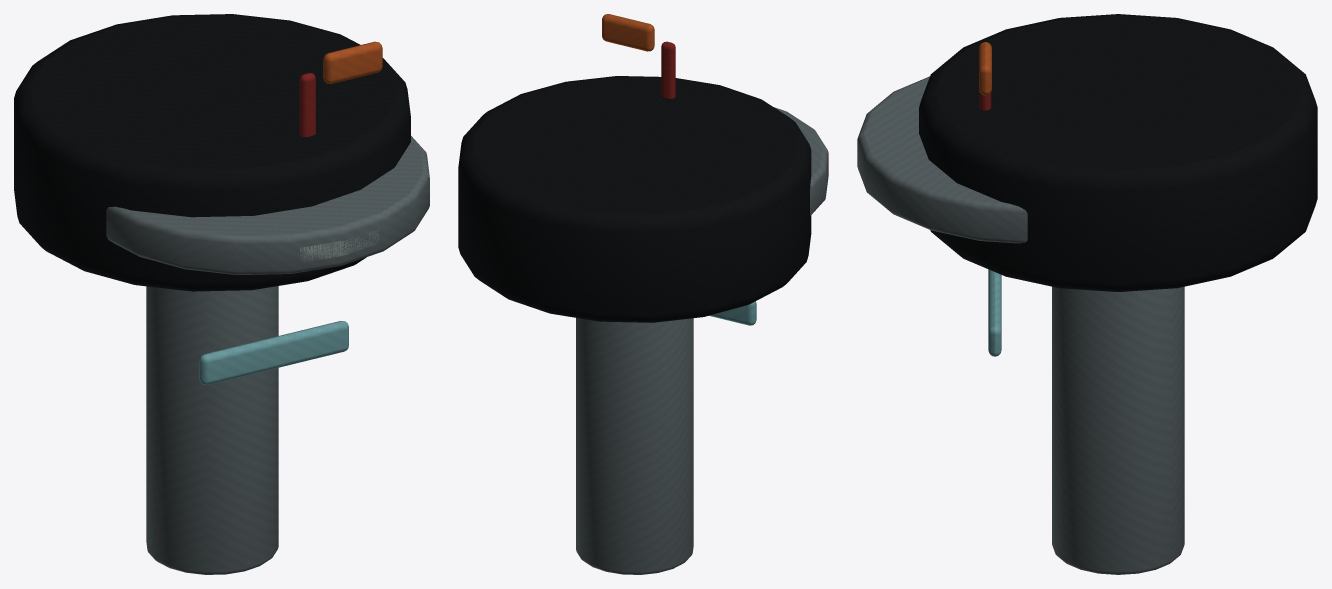
Rendered from PressureGauge.fbx.
3 views of the same model, side by side, from view 1: azimuth 30°, elevation 25°; view 2: azimuth 150°, elevation 25°; view 3: azimuth 270°, elevation 25° (orthographic). The views are drawn at different scales.
Visible parts, largest first — view 1: PressureGauge_Mesh; view 2: PressureGauge_Mesh; view 3: PressureGauge_Mesh.
Part boxes in pixels (x1=…): PressureGauge_Mesh: x1=14, y1=14, x2=429, y2=574; PressureGauge_Mesh: x1=458, y1=14, x2=828, y2=574; PressureGauge_Mesh: x1=857, y1=14, x2=1317, y2=574.
Bounding box in the file's own units: 42 × 61.75 × 48.5.
6 materials, 6 textured.
